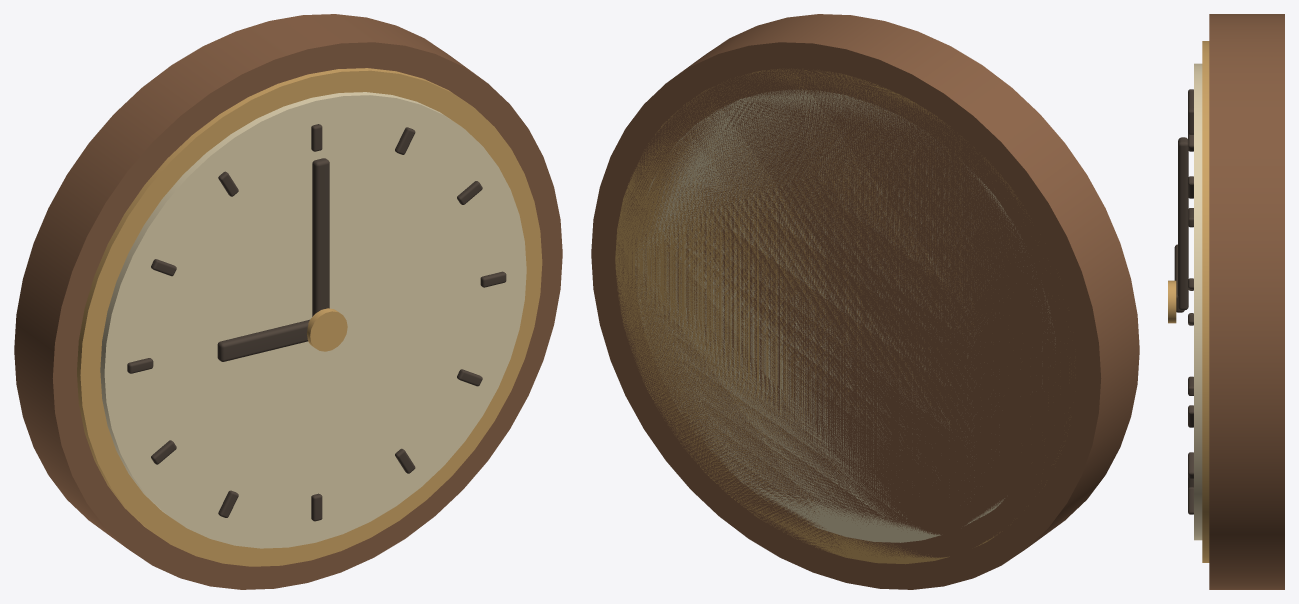
Rendered from stopped-kitchen-clock.glb.
3 views of the same model, side by side, from view 1: azimuth 30°, elevation 25°; view 2: azimuth 150°, elevation 25°; view 3: azimuth 270°, elevation 25° (orthographic). The views are drawn at different scales.
Parts seen in each view (by area): view 1: Paper dial, Turned oak case, Brass bezel, Blackened steel hands; view 2: Turned oak case, Brass bezel, Paper dial; view 3: Turned oak case, Brass bezel, Paper dial, Blackened steel hands.
Part boxes in pixels (bbox=[...]): Paper dial: bbox=[100, 92, 526, 548]; Turned oak case: bbox=[14, 14, 562, 589]; Brass bezel: bbox=[77, 68, 542, 566]; Blackened steel hands: bbox=[127, 124, 506, 521]; Turned oak case: bbox=[591, 14, 1139, 589]; Brass bezel: bbox=[615, 68, 1069, 564]; Paper dial: bbox=[635, 89, 1055, 542]; Turned oak case: bbox=[1209, 14, 1284, 589]; Brass bezel: bbox=[1168, 41, 1209, 562]; Paper dial: bbox=[1194, 63, 1202, 540]; Blackened steel hands: bbox=[1174, 89, 1193, 514].
Size of the model in its own units: 0.488 by 0.488 by 0.099.
